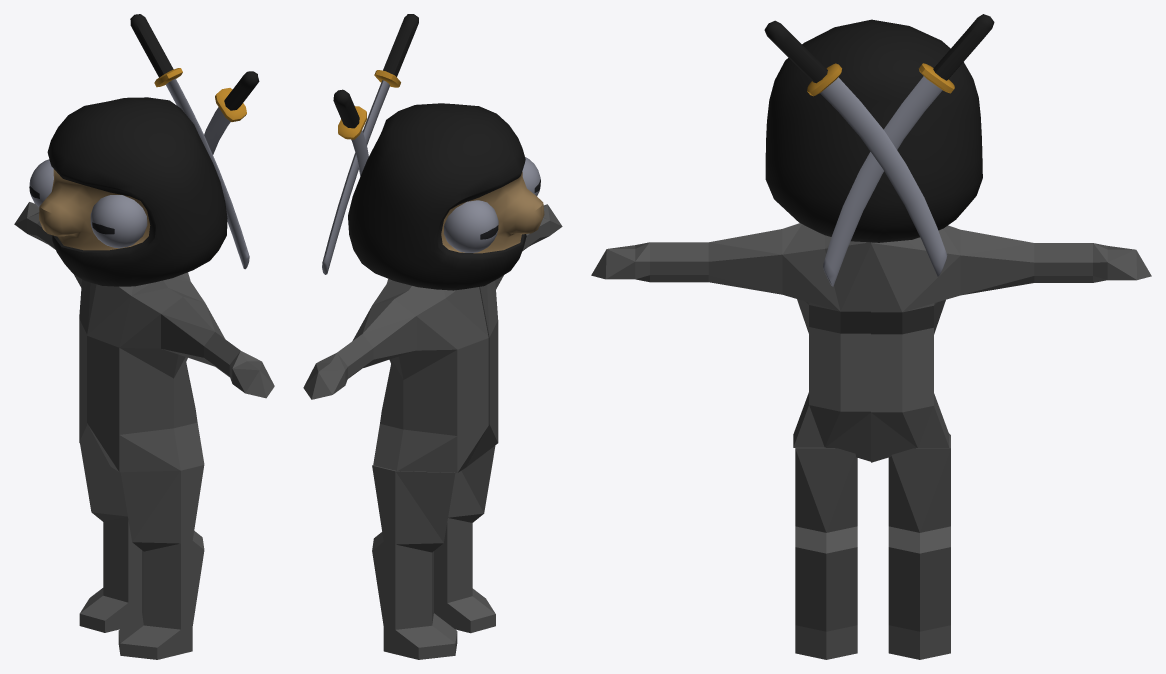
Rendered from ninja man.fbx.
3 renders of one model, left to right at view 1: azimuth 30°, elevation 25°; view 2: azimuth 150°, elevation 25°; view 3: azimuth 270°, elevation 25°, orthographic. The views are drawn at different scales.
Parts seen in each view (by area): view 1: Ninja_Blob.002, group847455024, group1842606042, group1236196868, group1782017518; view 2: Ninja_Blob.002, group1782017518, group1236196868, group1842606042, group847455024; view 3: Ninja_Blob.002, group1782017518, group847455024, group1842606042, group1236196868.
Part boxes in pixels (x1,y1,x2,y2): Ninja_Blob.002: (29, 14, 259, 286); group847455024: (87, 272, 274, 472); group1842606042: (118, 465, 204, 659); group1236196868: (79, 444, 141, 632); group1782017518: (14, 202, 110, 466); Ninja_Blob.002: (322, 14, 544, 290); group1782017518: (303, 279, 488, 472); group1236196868: (372, 465, 457, 659); group1842606042: (434, 446, 495, 633); group847455024: (466, 204, 562, 467); Ninja_Blob.002: (764, 14, 994, 286); group1782017518: (871, 225, 1151, 462); group847455024: (591, 223, 871, 461); group1842606042: (795, 447, 857, 659); group1236196868: (888, 433, 950, 659).
Size of the model in its own units: 16.32 by 46.74 by 36.01.
